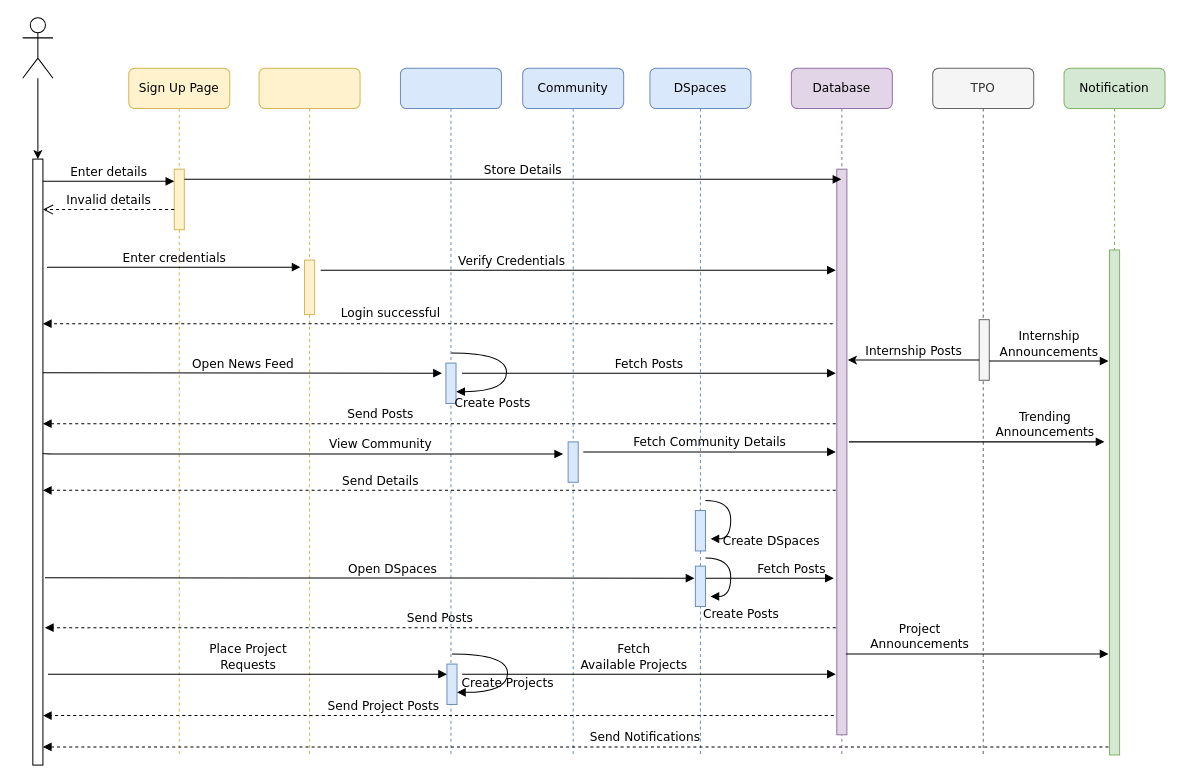
Some shapes in this 1183 by 783 pixel diagram are drawn without their labels. The shapes that lost their labels are listed below. From the top down, each one's box as (x1, y1, x2, y2) in pixels, then its label:
(22, 17, 53, 78): Student
(258, 67, 360, 755): Login Page
(399, 67, 501, 755): News Feed
